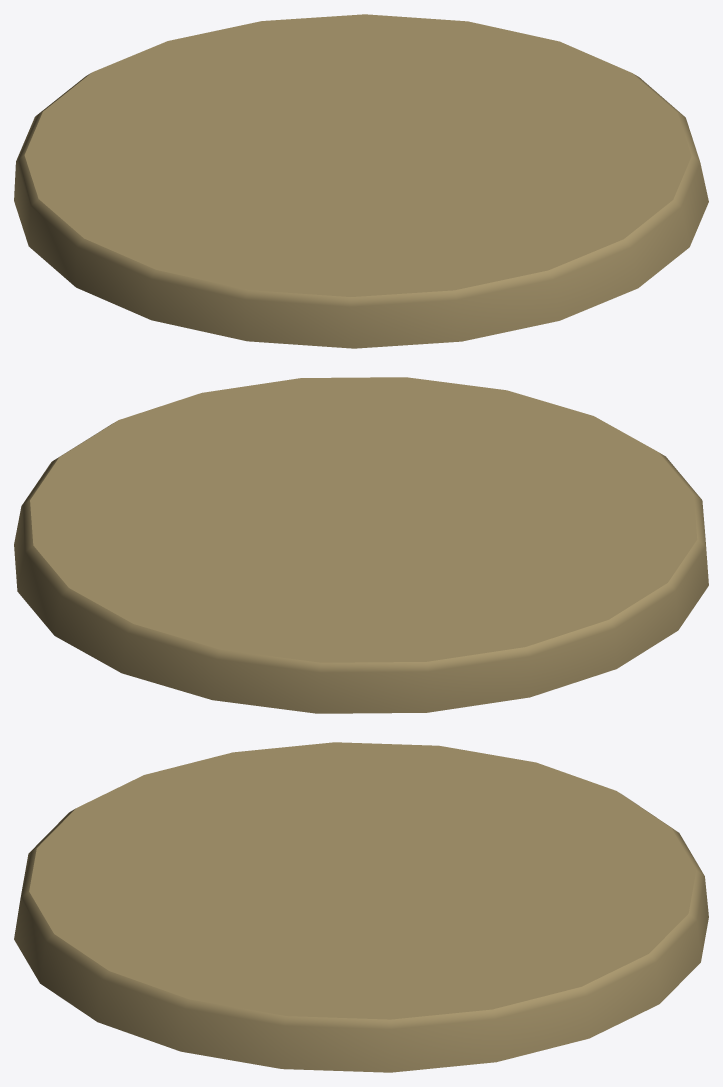
Rendered from G_Metal_04.fbx.
3 renders of one model, top to bottom at view 1: azimuth 30°, elevation 25°; view 2: azimuth 150°, elevation 25°; view 3: azimuth 270°, elevation 25°, orthographic.
Parts seen in each view (by area): view 1: G_Metal_04; view 2: G_Metal_04; view 3: G_Metal_04.
Part boxes in pixels (x1,y1,x2,y2): G_Metal_04: (14,14,708,348); G_Metal_04: (14,377,708,713); G_Metal_04: (14,742,708,1072).
Bounding box in the file's own units: 4.59 × 0.3734 × 4.59.
